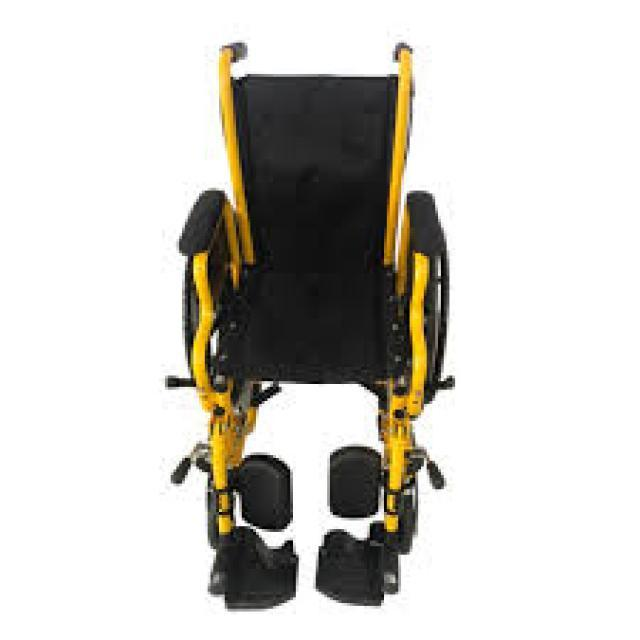wheelchair: (108, 22, 484, 638)
